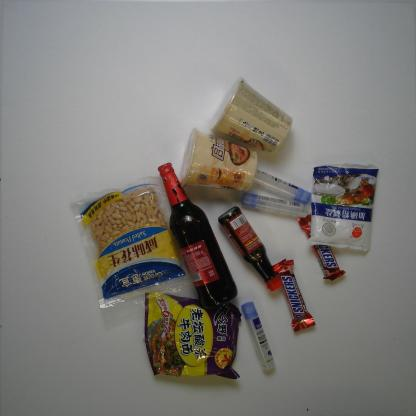Alcohol: (153, 161, 238, 311)
Chocolate: (294, 209, 350, 283), (273, 258, 317, 334)
Dried Fruit: (69, 172, 200, 311)
Instant Noodles: (144, 288, 242, 382), (208, 76, 296, 154), (176, 126, 258, 191)
Seasoner: (304, 158, 380, 256), (217, 205, 285, 293)
Stationery: (240, 299, 277, 373), (252, 167, 313, 205), (240, 186, 310, 218)
